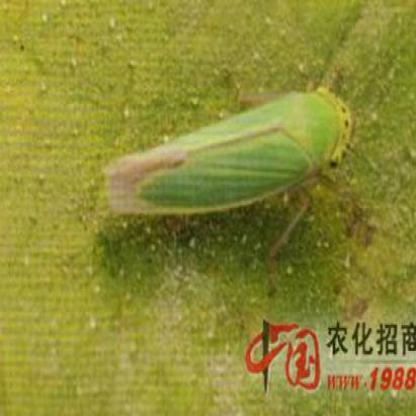Green-Leafhopper: (102, 80, 360, 263)
